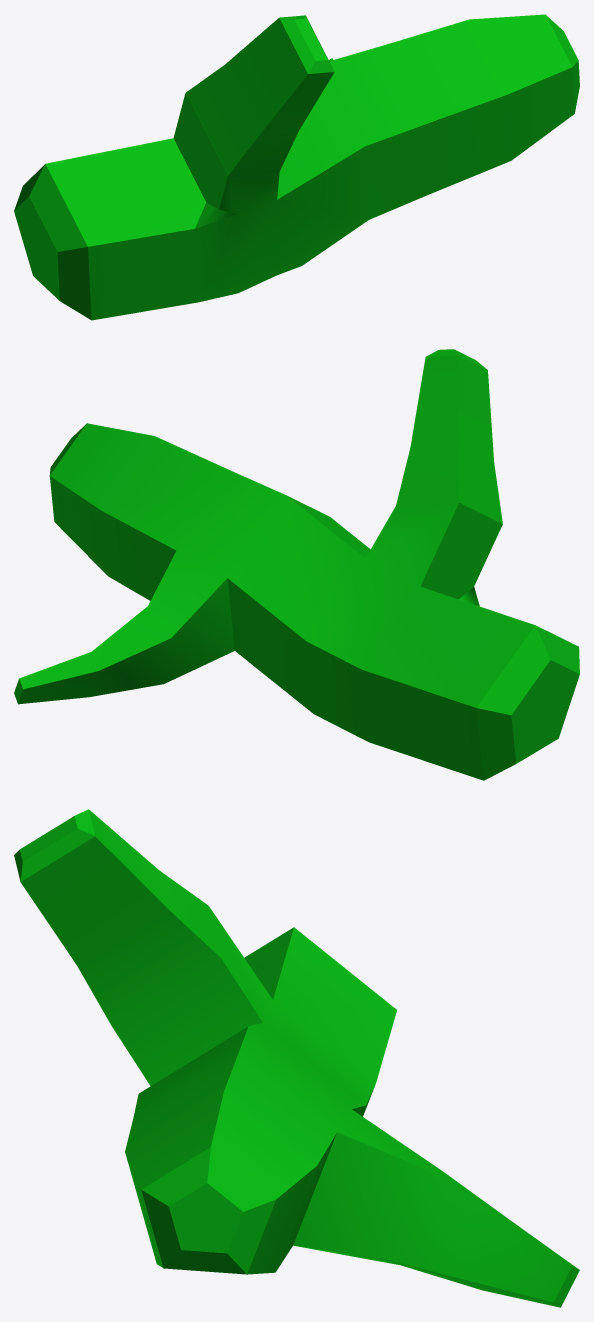
File: Projectile_Cactus.FBX
3 renders of one model, top to bottom at view 1: azimuth 30°, elevation 25°; view 2: azimuth 150°, elevation 25°; view 3: azimuth 270°, elevation 25°, orthographic. The views are drawn at different scales.
Parts seen in each view (by area): view 1: Cylinder001; view 2: Cylinder001; view 3: Cylinder001.
Boxes of the visible parts, box(x1,y1,x2,y2) form: Cylinder001: box(14, 14, 579, 320); Cylinder001: box(14, 349, 579, 780); Cylinder001: box(14, 809, 579, 1307).
Bounding box in the file's own units: 0.7571 × 0.4375 × 0.5622.
